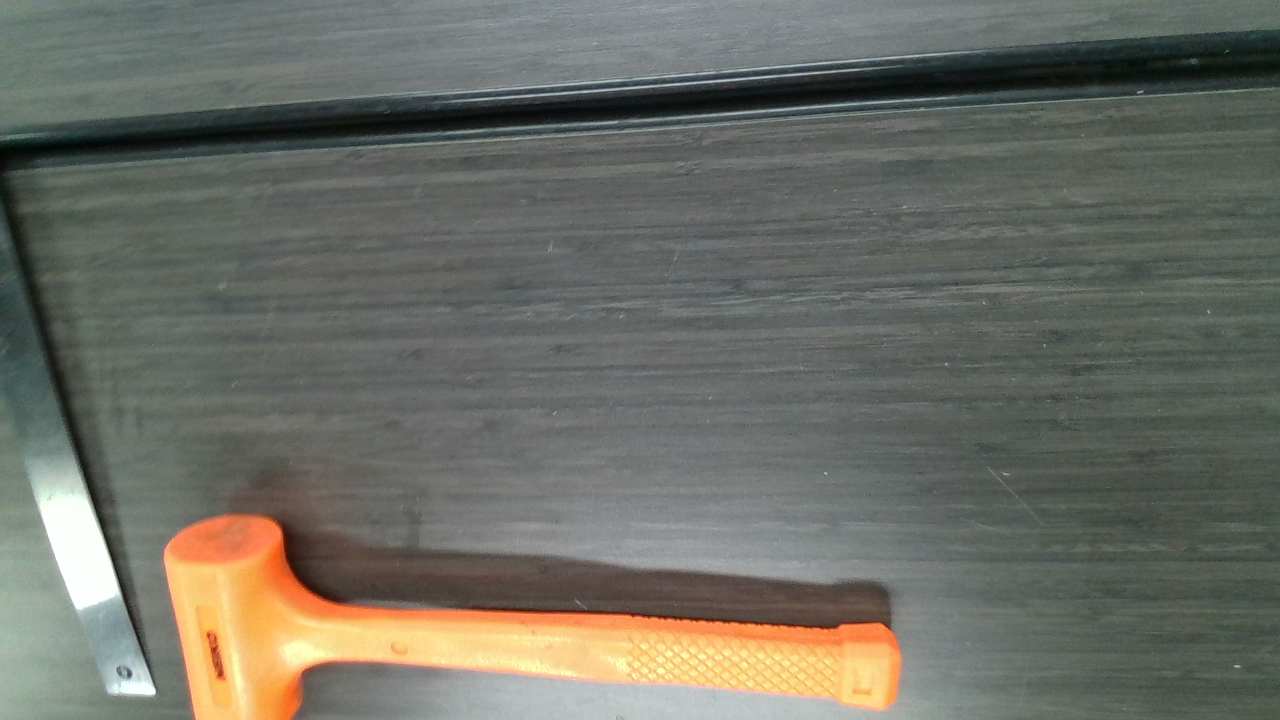Orange Hammer: (170, 515, 901, 718)
